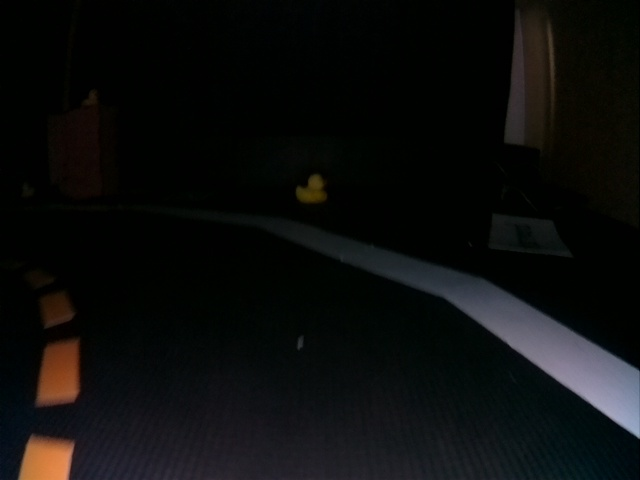Duckie: (297, 175, 327, 204), (22, 185, 32, 197)
